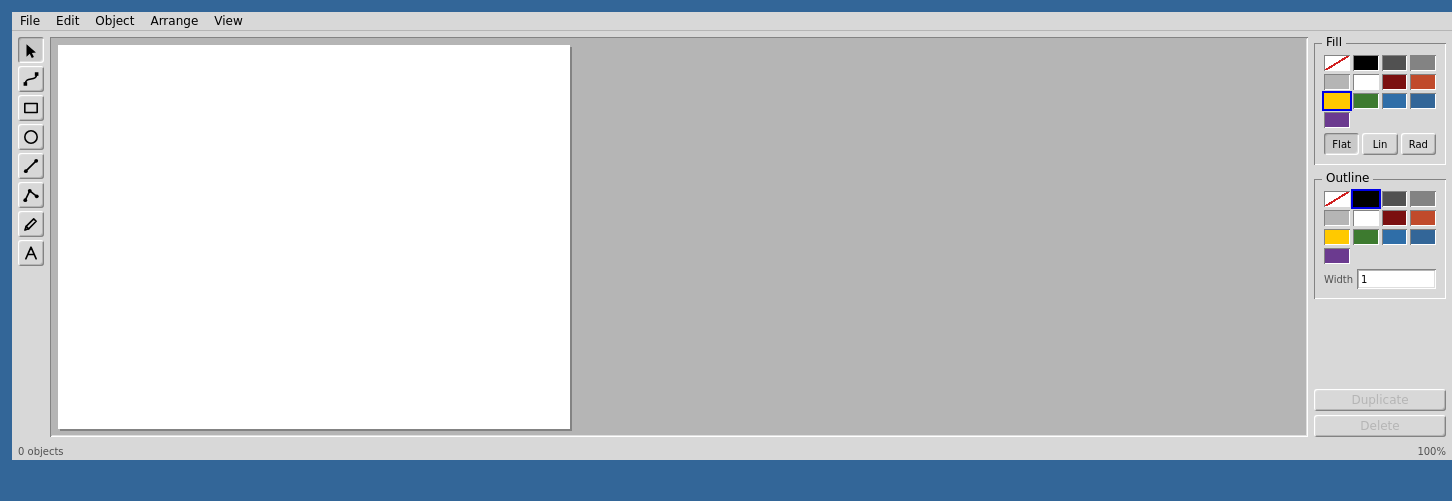
Test case: Draw: text › offers the size and the face before anything is placed
The width and height of the screenshot is (1452, 501).
Click the 8th button with class "draw-tool". click: (31, 253)
box: x1=18 y1=240 x2=44 y2=266
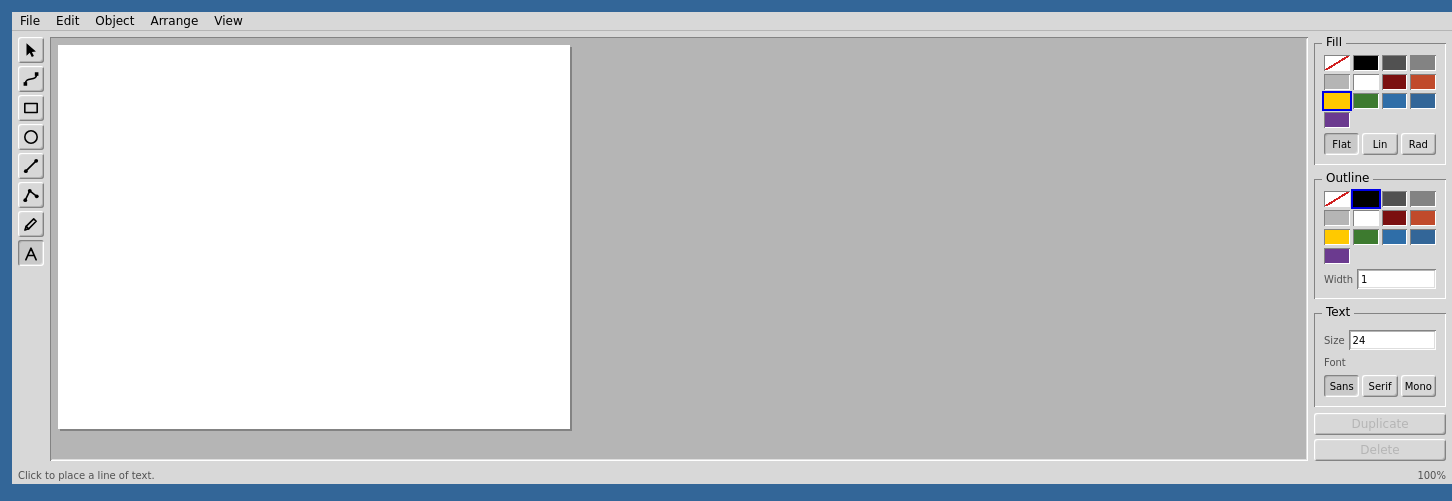
Expected: the number field named "Font size" is shown, x1=1348 y1=330 x2=1436 y2=350
Expected: the element named "Font" is shown, x1=1324 y1=375 x2=1436 y2=397
